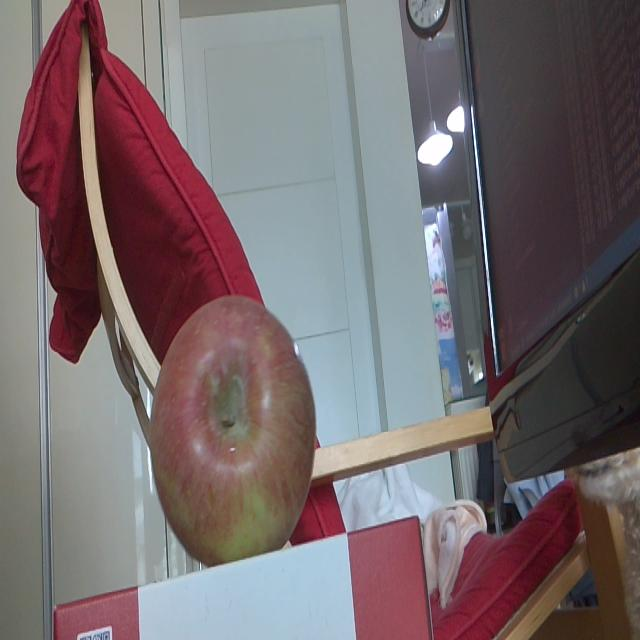apple: (147, 288, 317, 558)
